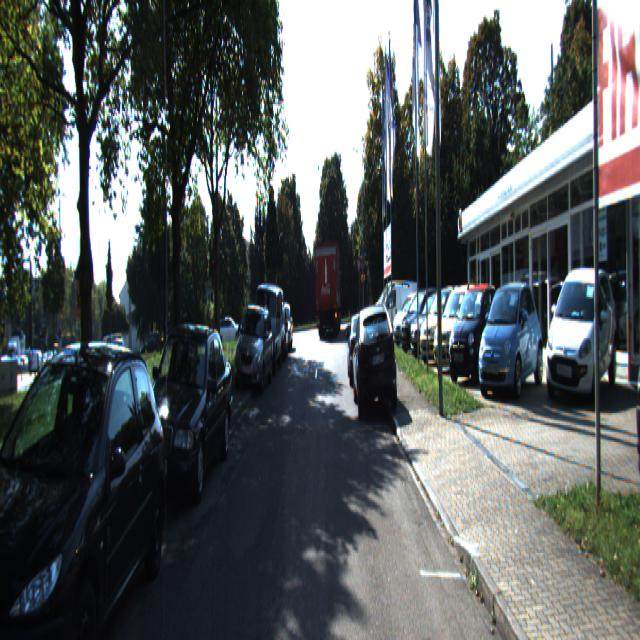Car: (0, 331, 170, 638), (128, 317, 234, 518), (544, 252, 620, 404), (477, 277, 545, 398), (446, 279, 504, 385), (352, 298, 398, 421), (432, 285, 489, 374), (418, 283, 472, 367), (233, 300, 274, 396), (407, 292, 462, 360), (250, 282, 284, 376), (314, 241, 342, 338), (346, 309, 377, 386), (374, 283, 414, 342), (634, 202, 639, 498)
